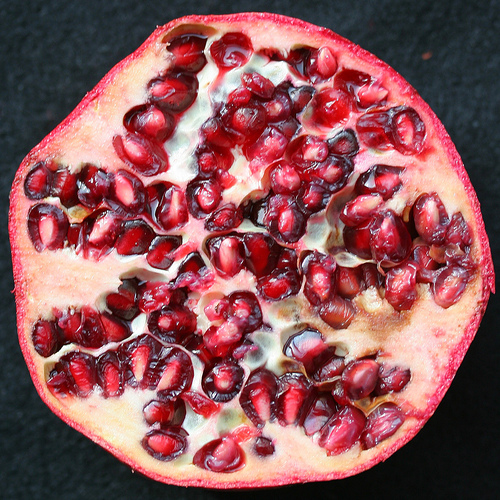pomogranate: (5, 10, 497, 491)
